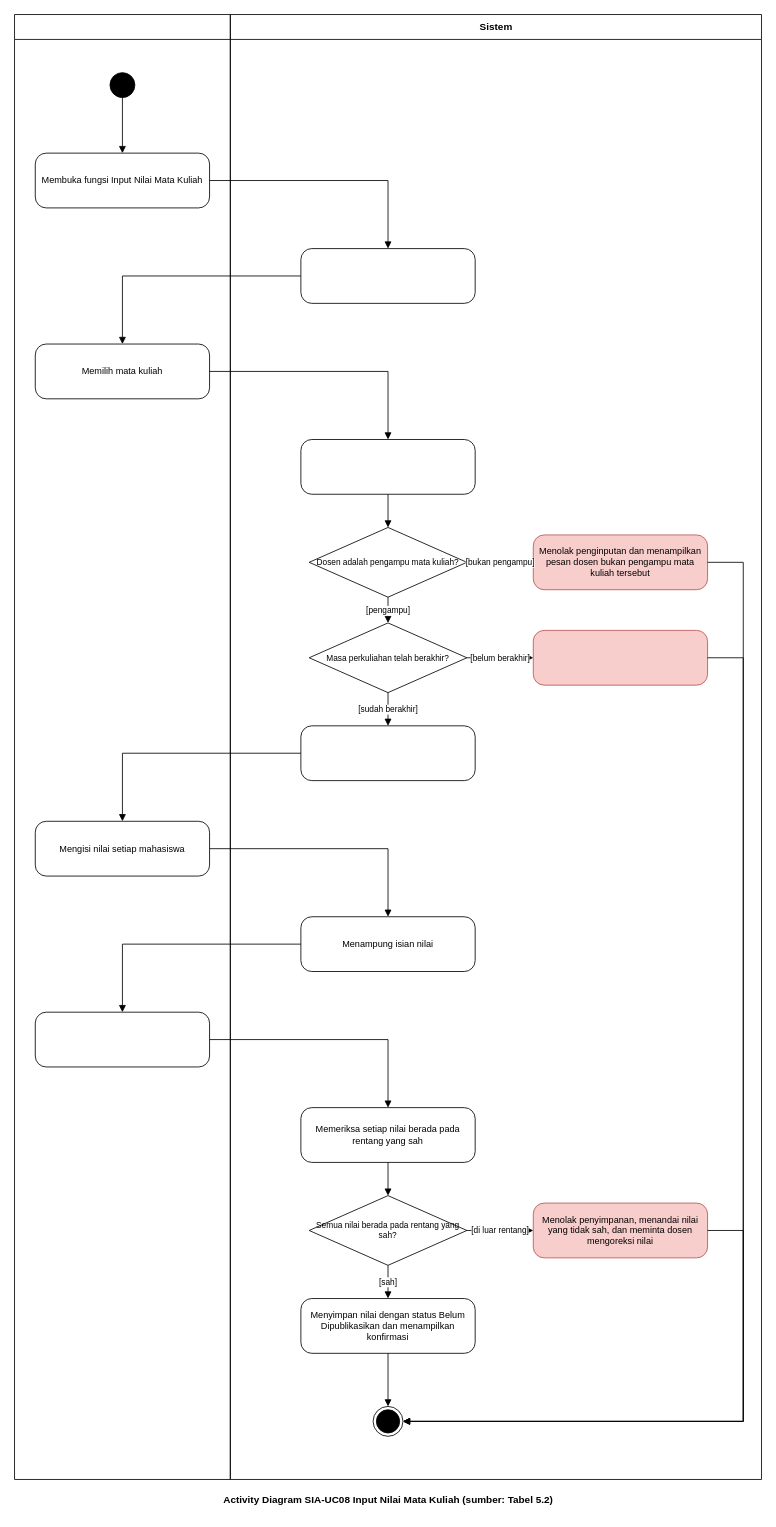
The diagram is 776 pixels wide and 1527 high, and some of its shapes have lost their labels. Each missing label, with the box of its shape:
Dosen: (14, 14, 230, 1479)
Memeriksa bahwa dosen adalah pengampu dan masa perkuliahan telah berakhir: (300, 439, 475, 494)
Menampilkan daftar mahasiswa peserta beserta kolom nilai: (300, 725, 475, 781)
Menampilkan daftar mata kuliah yang diampu dosen: (300, 248, 475, 303)
Menolak penginputan dan menampilkan pesan masa perkuliahan belum berakhir: (532, 630, 708, 685)
Menyimpan nilai: (34, 1011, 210, 1067)
